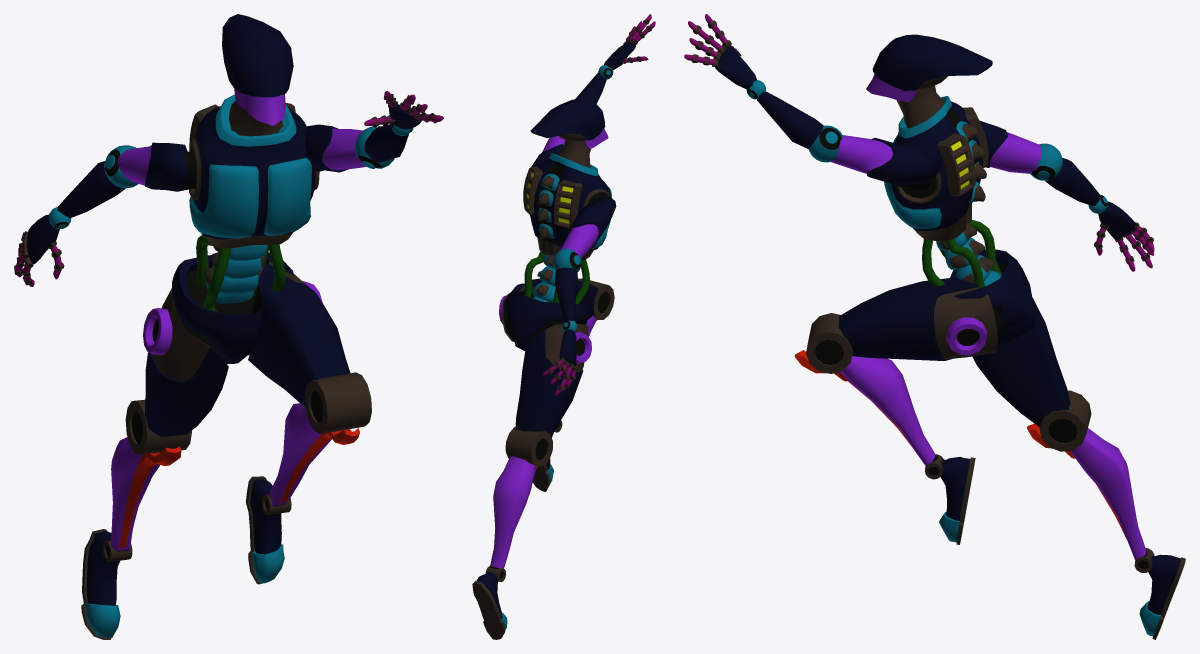
Rendered from OBJ_PersoPose_3.fbx.
3 views of the same model, side by side, from view 1: azimuth 30°, elevation 25°; view 2: azimuth 150°, elevation 25°; view 3: azimuth 270°, elevation 25° (orthographic). The views are drawn at different scales.
Visible parts, largest first — view 1: OBJ_PersoPose_3; view 2: OBJ_PersoPose_3; view 3: OBJ_PersoPose_3.
Boxes of the visible parts, left/top/right/bottom form: OBJ_PersoPose_3: left=14, top=14, right=443, bottom=639; OBJ_PersoPose_3: left=472, top=14, right=655, bottom=639; OBJ_PersoPose_3: left=684, top=14, right=1185, bottom=639.
Size of the model in its own units: 22.24 by 78.01 by 56.05.
